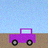vehicle: (9, 28, 35, 45)
